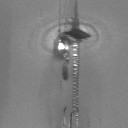slag inclusion: (50, 0, 92, 128)
